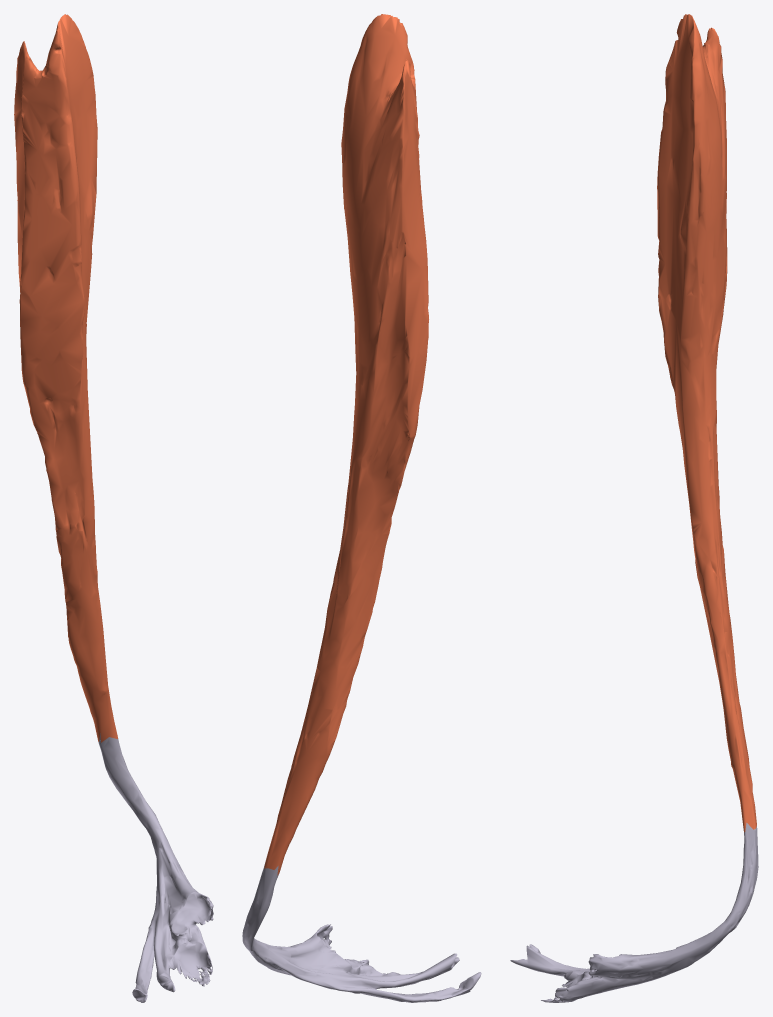
The model's file is Tibialis_posterior_muscle.r_Generated_Mesh_From_X3D.152.glb.
3 renders of one model, left to right at view 1: azimuth 30°, elevation 25°; view 2: azimuth 150°, elevation 25°; view 3: azimuth 270°, elevation 25°, orthographic. The views are drawn at different scales.
Parts seen in each view (by area): view 1: Tibialis_posterior_muscle.r_Generated_Mesh_From_X3D.152; view 2: Tibialis_posterior_muscle.r_Generated_Mesh_From_X3D.152; view 3: Tibialis_posterior_muscle.r_Generated_Mesh_From_X3D.152.
Boxes of the visible parts, bbox=[...] form: Tibialis_posterior_muscle.r_Generated_Mesh_From_X3D.152: bbox=[14, 14, 213, 1002]; Tibialis_posterior_muscle.r_Generated_Mesh_From_X3D.152: bbox=[242, 14, 481, 1002]; Tibialis_posterior_muscle.r_Generated_Mesh_From_X3D.152: bbox=[510, 14, 758, 1002].
Size of the model in its own units: 0.0589 by 0.3438 by 0.0811.
